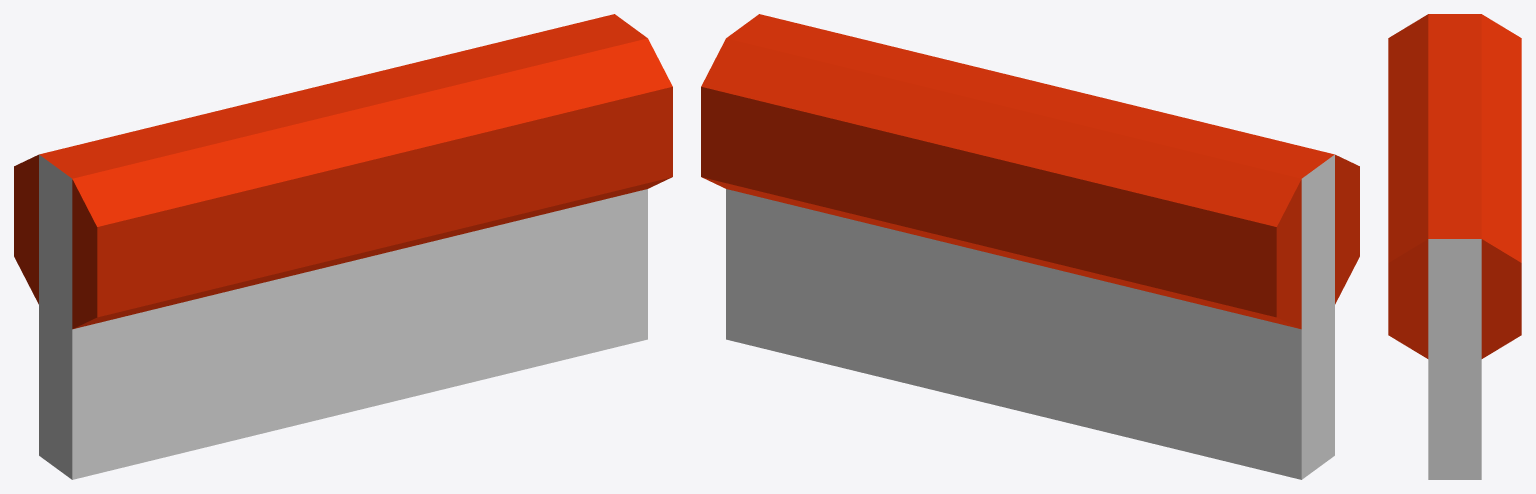
File: ShortWall0.fbx
3 views of the same model, side by side, from view 1: azimuth 30°, elevation 25°; view 2: azimuth 150°, elevation 25°; view 3: azimuth 270°, elevation 25° (orthographic). The views are drawn at different scales.
Visible parts, largest first — view 1: Wall0; view 2: Wall0; view 3: Wall0.
Part boxes in pixels (left/top/right/bottom): Wall0: left=14, top=14, right=672, bottom=479; Wall0: left=701, top=14, right=1359, bottom=479; Wall0: left=1388, top=14, right=1521, bottom=479.
Bounding box in the file's own units: 200 × 100 × 50.
